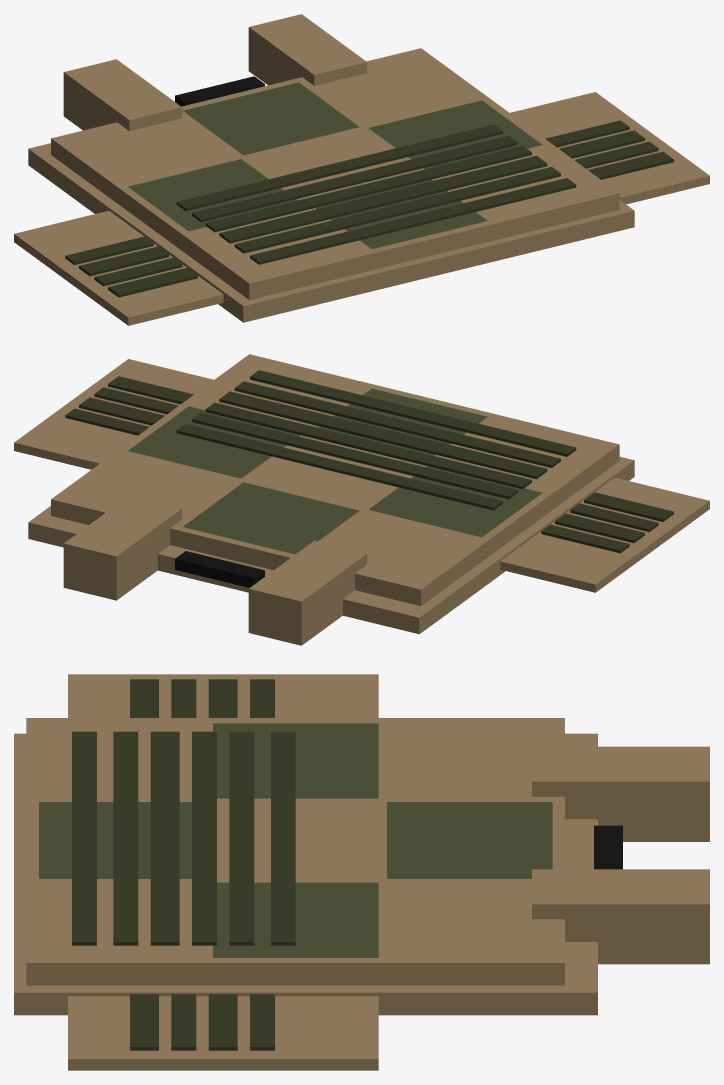
File: xl_ballistic_vest.glb
3 views of the same model, one above another, from view 1: azimuth 30°, elevation 25°; view 2: azimuth 150°, elevation 25°; view 3: azimuth 270°, elevation 25° (orthographic). The views are drawn at different scales.
Parts seen in each view (by area): view 1: xl_ballistic_vest:compound; view 2: xl_ballistic_vest:compound; view 3: xl_ballistic_vest:compound.
Boxes of the visible parts, x1,y1,x2,y2 form: xl_ballistic_vest:compound: (14, 14, 709, 325); xl_ballistic_vest:compound: (14, 354, 709, 645); xl_ballistic_vest:compound: (14, 674, 709, 1070).
Size of the model in its own units: 0.88 by 0.064 by 0.672.
